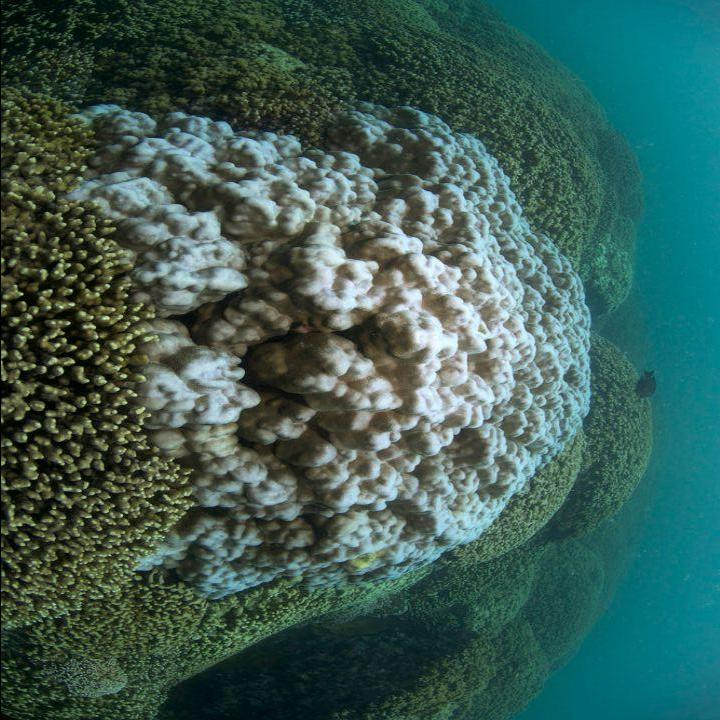Bleached disease: (131, 104, 572, 584)
